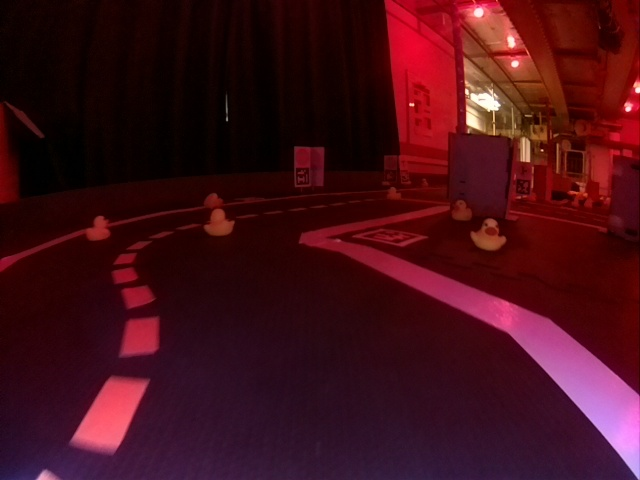Duckie: (205, 210, 234, 236), (86, 216, 111, 241), (451, 201, 472, 220), (204, 193, 222, 208), (386, 187, 401, 199)
QR code: (353, 228, 428, 246), (295, 167, 311, 186)
